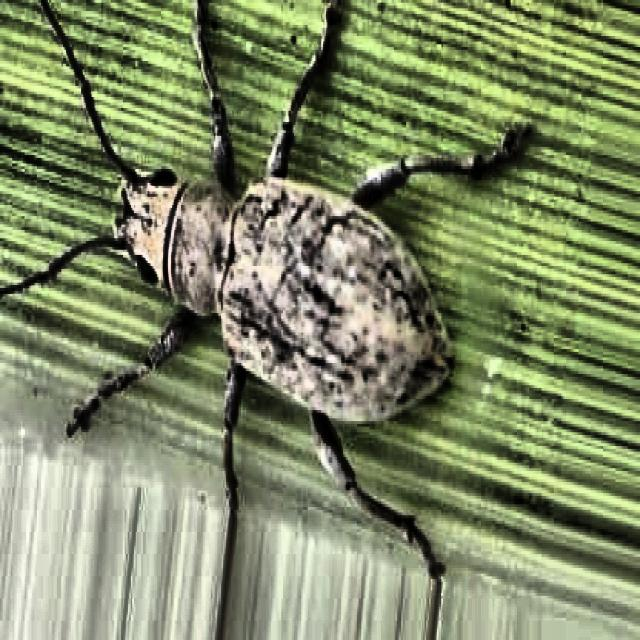Stink bug: (11, 10, 502, 573)
